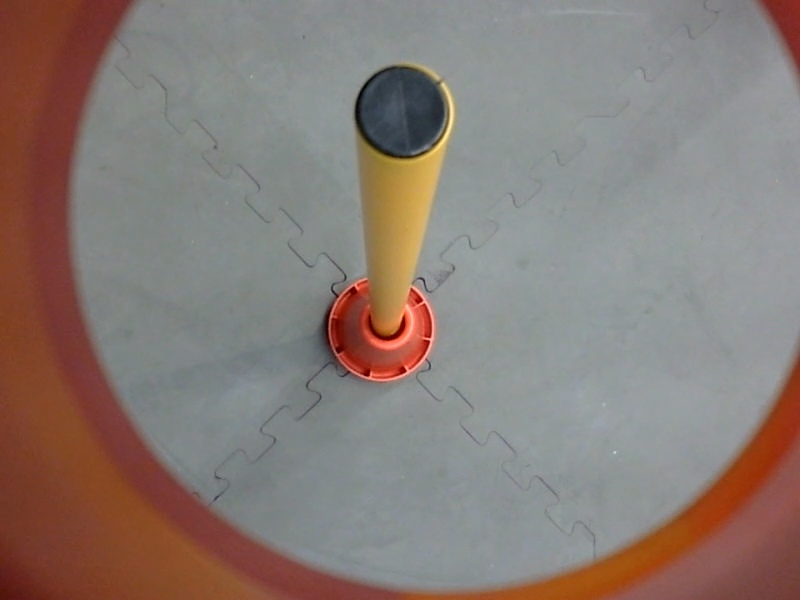tip: (344, 59, 461, 172)
